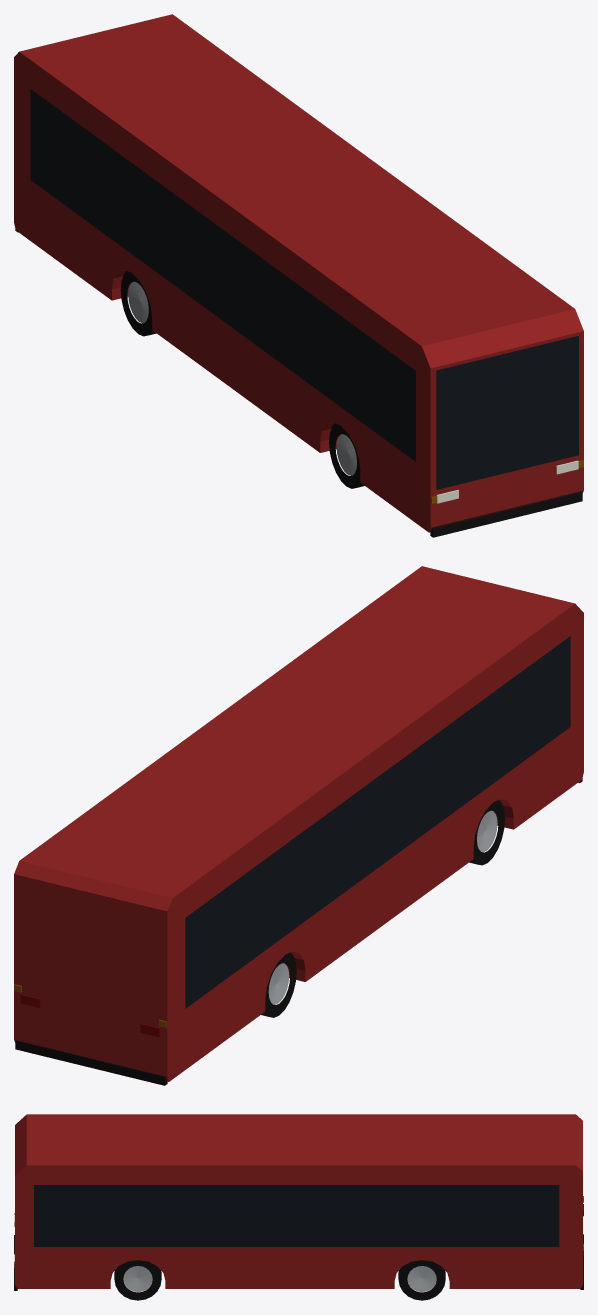
The model's file is body.glb.
The picture shows the model from 3 angles, top to bottom: view 1: azimuth 30°, elevation 25°; view 2: azimuth 150°, elevation 25°; view 3: azimuth 270°, elevation 25°; orthographic projection. The views are drawn at different scales.
Parts seen in each view (by area): view 1: shell, glass, trim, wheel_RR, wheel_RF; view 2: shell, glass, trim, wheel_RR, wheel_RF; view 3: shell, glass, wheel_LR, wheel_LF.
Part boxes in pixels (x1,y1,x2,y2): shell: [14, 14, 583, 532]; glass: [30, 89, 578, 489]; trim: [15, 229, 582, 537]; wheel_RR: [120, 271, 156, 336]; wheel_RF: [329, 423, 364, 488]; shell: [14, 566, 583, 1081]; glass: [185, 636, 570, 1008]; trim: [15, 778, 582, 1085]; wheel_RR: [261, 952, 296, 1017]; wheel_RF: [469, 800, 504, 865]; shell: [15, 1114, 582, 1288]; glass: [34, 1185, 559, 1246]; wheel_LR: [398, 1260, 445, 1300]; wheel_LF: [114, 1260, 161, 1300].
Size of the model in its own units: 2.57 by 3.2 by 12.04.
